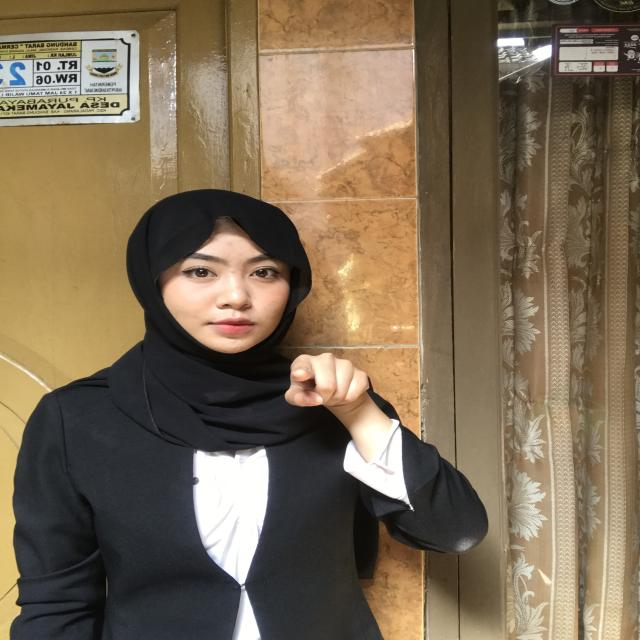kamu: (259, 337, 400, 432)
